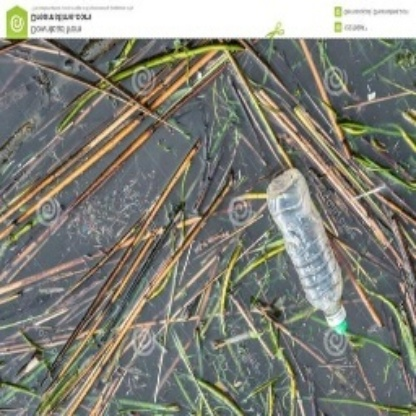bottle: (266, 170, 353, 335)
